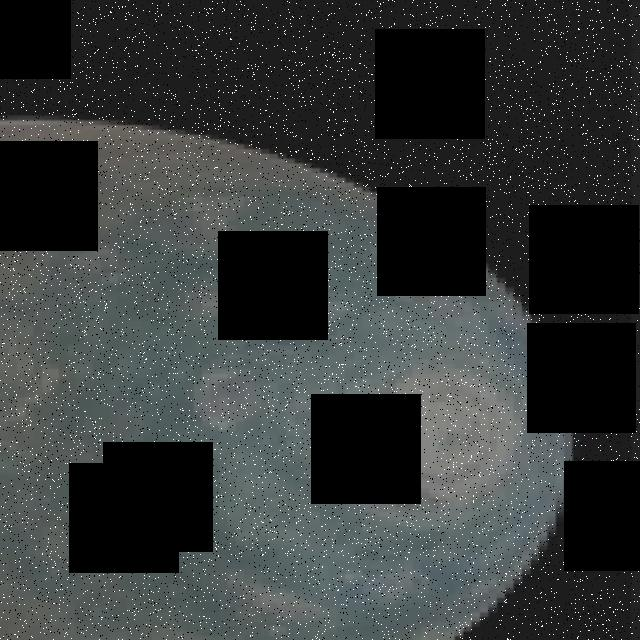Jupiter: (0, 114, 581, 640)
